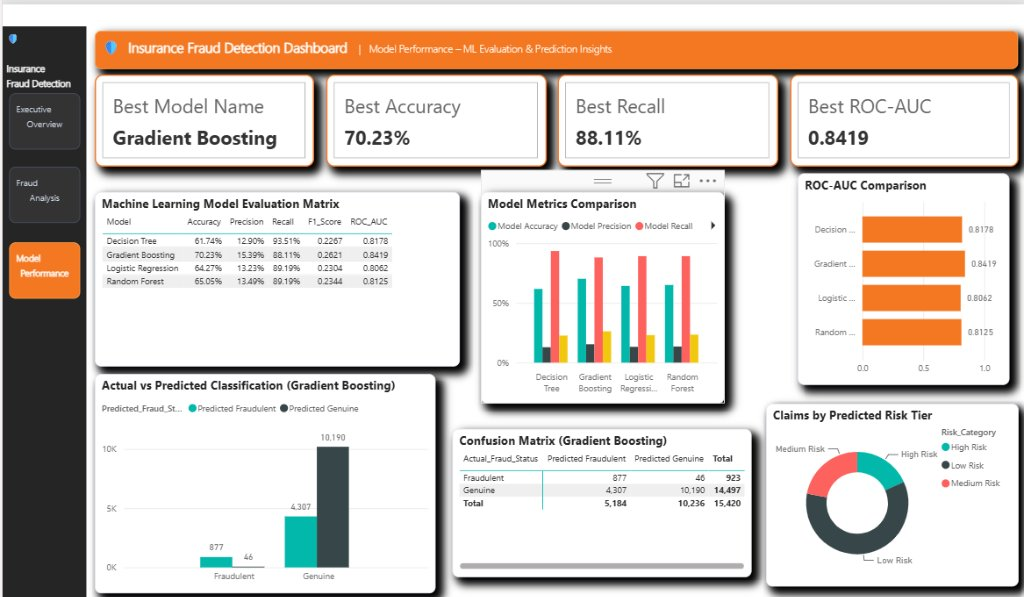

What the dashboard file says about the page in this screenshot:
{"tool":"powerbi","page":{"name":"Model Performance","canvas":[1280,720],"ordinal":2},"visuals":[{"type":"textbox","box":[0,0,105,720],"z":0},{"type":"textbox","box":[8.2,83.7,89,70],"z":1000},{"type":"textbox","box":[8,175,89,70],"z":2000},{"type":"textbox","box":[8,270,89,70],"z":3000},{"type":"textbox","box":[115,6,1155,48],"z":4000},{"type":"cardVisual","title":"Best Model","fields":{"Data":["fraud_predictions.Best Model Name"]},"box":[115.3,60.4,274.4,115.3],"z":5000},{"type":"cardVisual","title":"Best Accuracy","fields":{"Data":["fraud_predictions.Best Accuracy"]},"box":[404.8,60.4,275.8,115.3],"z":6000},{"type":"cardVisual","title":"Best Recall","fields":{"Data":["fraud_predictions.Best Recall"]},"box":[694.3,60.4,275.8,115.3],"z":7000},{"type":"cardVisual","title":"Best ROC-AUC","fields":{"Data":["fraud_predictions.Best ROC-AUC"]},"box":[985.3,60.4,285.4,115.3],"z":8000},{"type":"tableEx","title":"Machine Learning Model Evaluation Matrix","fields":{"Values":["model_comparison.Model","model_comparison.Accuracy","model_comparison.Precision","model_comparison.Recall","model_comparison.F1_Score","model_comparison.ROC_AUC"]},"box":[115.3,207.2,456.9,218.2],"z":9000},{"type":"clusteredColumnChart","title":"Model Metrics Comparison","fields":{"Category":["model_comparison.Model"],"Y":["model_comparison.Model Accuracy","model_comparison.Model Precision","model_comparison.Model Recall","model_comparison.Model F1 Score"]},"box":[598.3,207.2,305,265],"z":10000},{"type":"clusteredBarChart","title":"ROC-AUC Comparison","fields":{"Category":["model_comparison.Model"],"Y":["model_comparison.Model ROC AUC"]},"box":[994.9,183.9,265,265],"z":11000},{"type":"clusteredColumnChart","title":"Actual vs Predicted Classification (Gradient Boosting)","fields":{"Category":["fraud_predictions.Actual_Fraud_Status"],"Series":["fraud_predictions.Predicted_Fraud_Status"],"Y":["fraud_predictions.Total Claims"]},"box":[115.3,435,426.8,274.4],"z":12000},{"type":"pivotTable","title":"Confusion Matrix (Gradient Boosting)","fields":{"Rows":["fraud_predictions.Actual_Fraud_Status"],"Columns":["fraud_predictions.Predicted_Fraud_Status"],"Values":["fraud_predictions.Total Claims"]},"box":[562.6,503.6,374.6,185.2],"z":13000},{"type":"donutChart","title":"Claims by Predicted Risk Tier","fields":{"Category":["fraud_predictions.Risk_Category"],"Y":["fraud_predictions.Total Claims"]},"box":[955.1,472,315.6,229.2],"z":14000}]}

Visuals, with their boxes in screenshot pixels (x1, y1, x2, y2):
textbox: region(0, 21, 83, 596)
textbox: region(4, 90, 77, 147)
textbox: region(4, 164, 77, 222)
textbox: region(4, 242, 77, 299)
textbox: region(91, 26, 1023, 65)
"Best Model" cardVisual: region(92, 71, 316, 165)
"Best Accuracy" cardVisual: region(328, 71, 554, 165)
"Best Recall" cardVisual: region(565, 71, 791, 165)
"Best ROC-AUC" cardVisual: region(803, 71, 1023, 165)
"Machine Learning Model Evaluation Matrix" tableEx: region(92, 191, 465, 369)
"Model Metrics Comparison" clusteredColumnChart: region(487, 191, 736, 408)
"ROC-AUC Comparison" clusteredBarChart: region(811, 172, 1023, 389)
"Actual vs Predicted Classification (Gradient Boosting)" clusteredColumnChart: region(92, 377, 441, 596)
"Confusion Matrix (Gradient Boosting)" pivotTable: region(458, 433, 764, 585)
"Claims by Predicted Risk Tier" donutChart: region(779, 407, 1023, 595)
